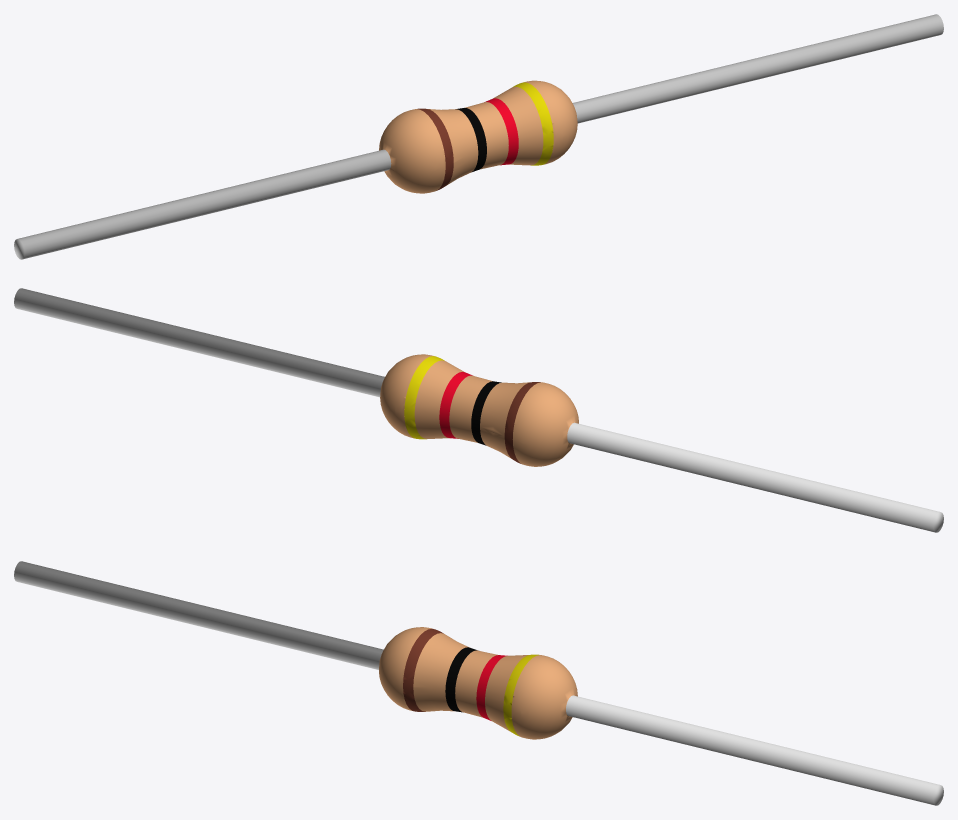
File: resistor_1kohms.glb
3 views of the same model, one above another, from view 1: azimuth 30°, elevation 25°; view 2: azimuth 150°, elevation 25°; view 3: azimuth 330°, elevation 25° (orthographic).
Parts seen in each view (by area): view 1: METAL-material, CERAMICA-material, OURO-material, VERMELHO-material, MARRON-material, PRETO-material; view 2: METAL-material, CERAMICA-material, OURO-material, VERMELHO-material, MARRON-material, PRETO-material; view 3: METAL-material, CERAMICA-material, MARRON-material, OURO-material, PRETO-material, VERMELHO-material.
Boxes of the visible parts, box(x1,y1,x2,y2) form: METAL-material: box(14, 14, 943, 259); CERAMICA-material: box(379, 80, 577, 193); OURO-material: box(513, 82, 553, 165); VERMELHO-material: box(484, 98, 518, 165); MARRON-material: box(417, 108, 453, 190); PRETO-material: box(455, 108, 486, 172); METAL-material: box(14, 288, 943, 532); CERAMICA-material: box(380, 354, 578, 466); OURO-material: box(404, 356, 444, 439); VERMELHO-material: box(439, 372, 472, 438); MARRON-material: box(504, 382, 540, 463); PRETO-material: box(471, 381, 501, 445); METAL-material: box(14, 561, 943, 805); CERAMICA-material: box(379, 627, 577, 739); MARRON-material: box(403, 628, 443, 711); OURO-material: box(503, 654, 538, 736); PRETO-material: box(445, 647, 477, 712); VERMELHO-material: box(476, 655, 507, 720).
Bounding box in the file's own units: 0.0299 × 0.0024 × 0.00241.
